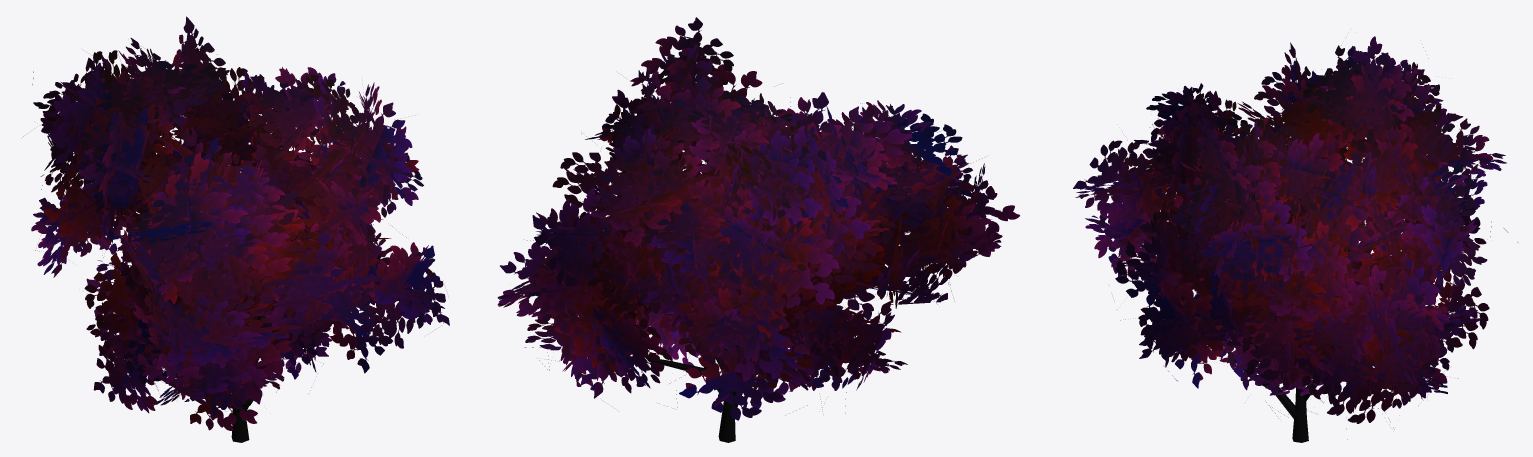
The model's file is test-tree10.glb.
3 renders of one model, left to right at view 1: azimuth 30°, elevation 25°; view 2: azimuth 150°, elevation 25°; view 3: azimuth 270°, elevation 25°, orthographic. The views are drawn at different scales.
Visible parts, largest first — view 1: trunk_1; view 2: trunk_1; view 3: trunk_1.
Boxes of the visible parts, bbox=[...] form: trunk_1: bbox=[23, 16, 449, 442]; trunk_1: bbox=[497, 17, 1019, 442]; trunk_1: bbox=[1073, 36, 1517, 442].
Size of the model in its own units: 42.85 by 42.02 by 45.42.
Materials: 1 (1 with a texture image).
